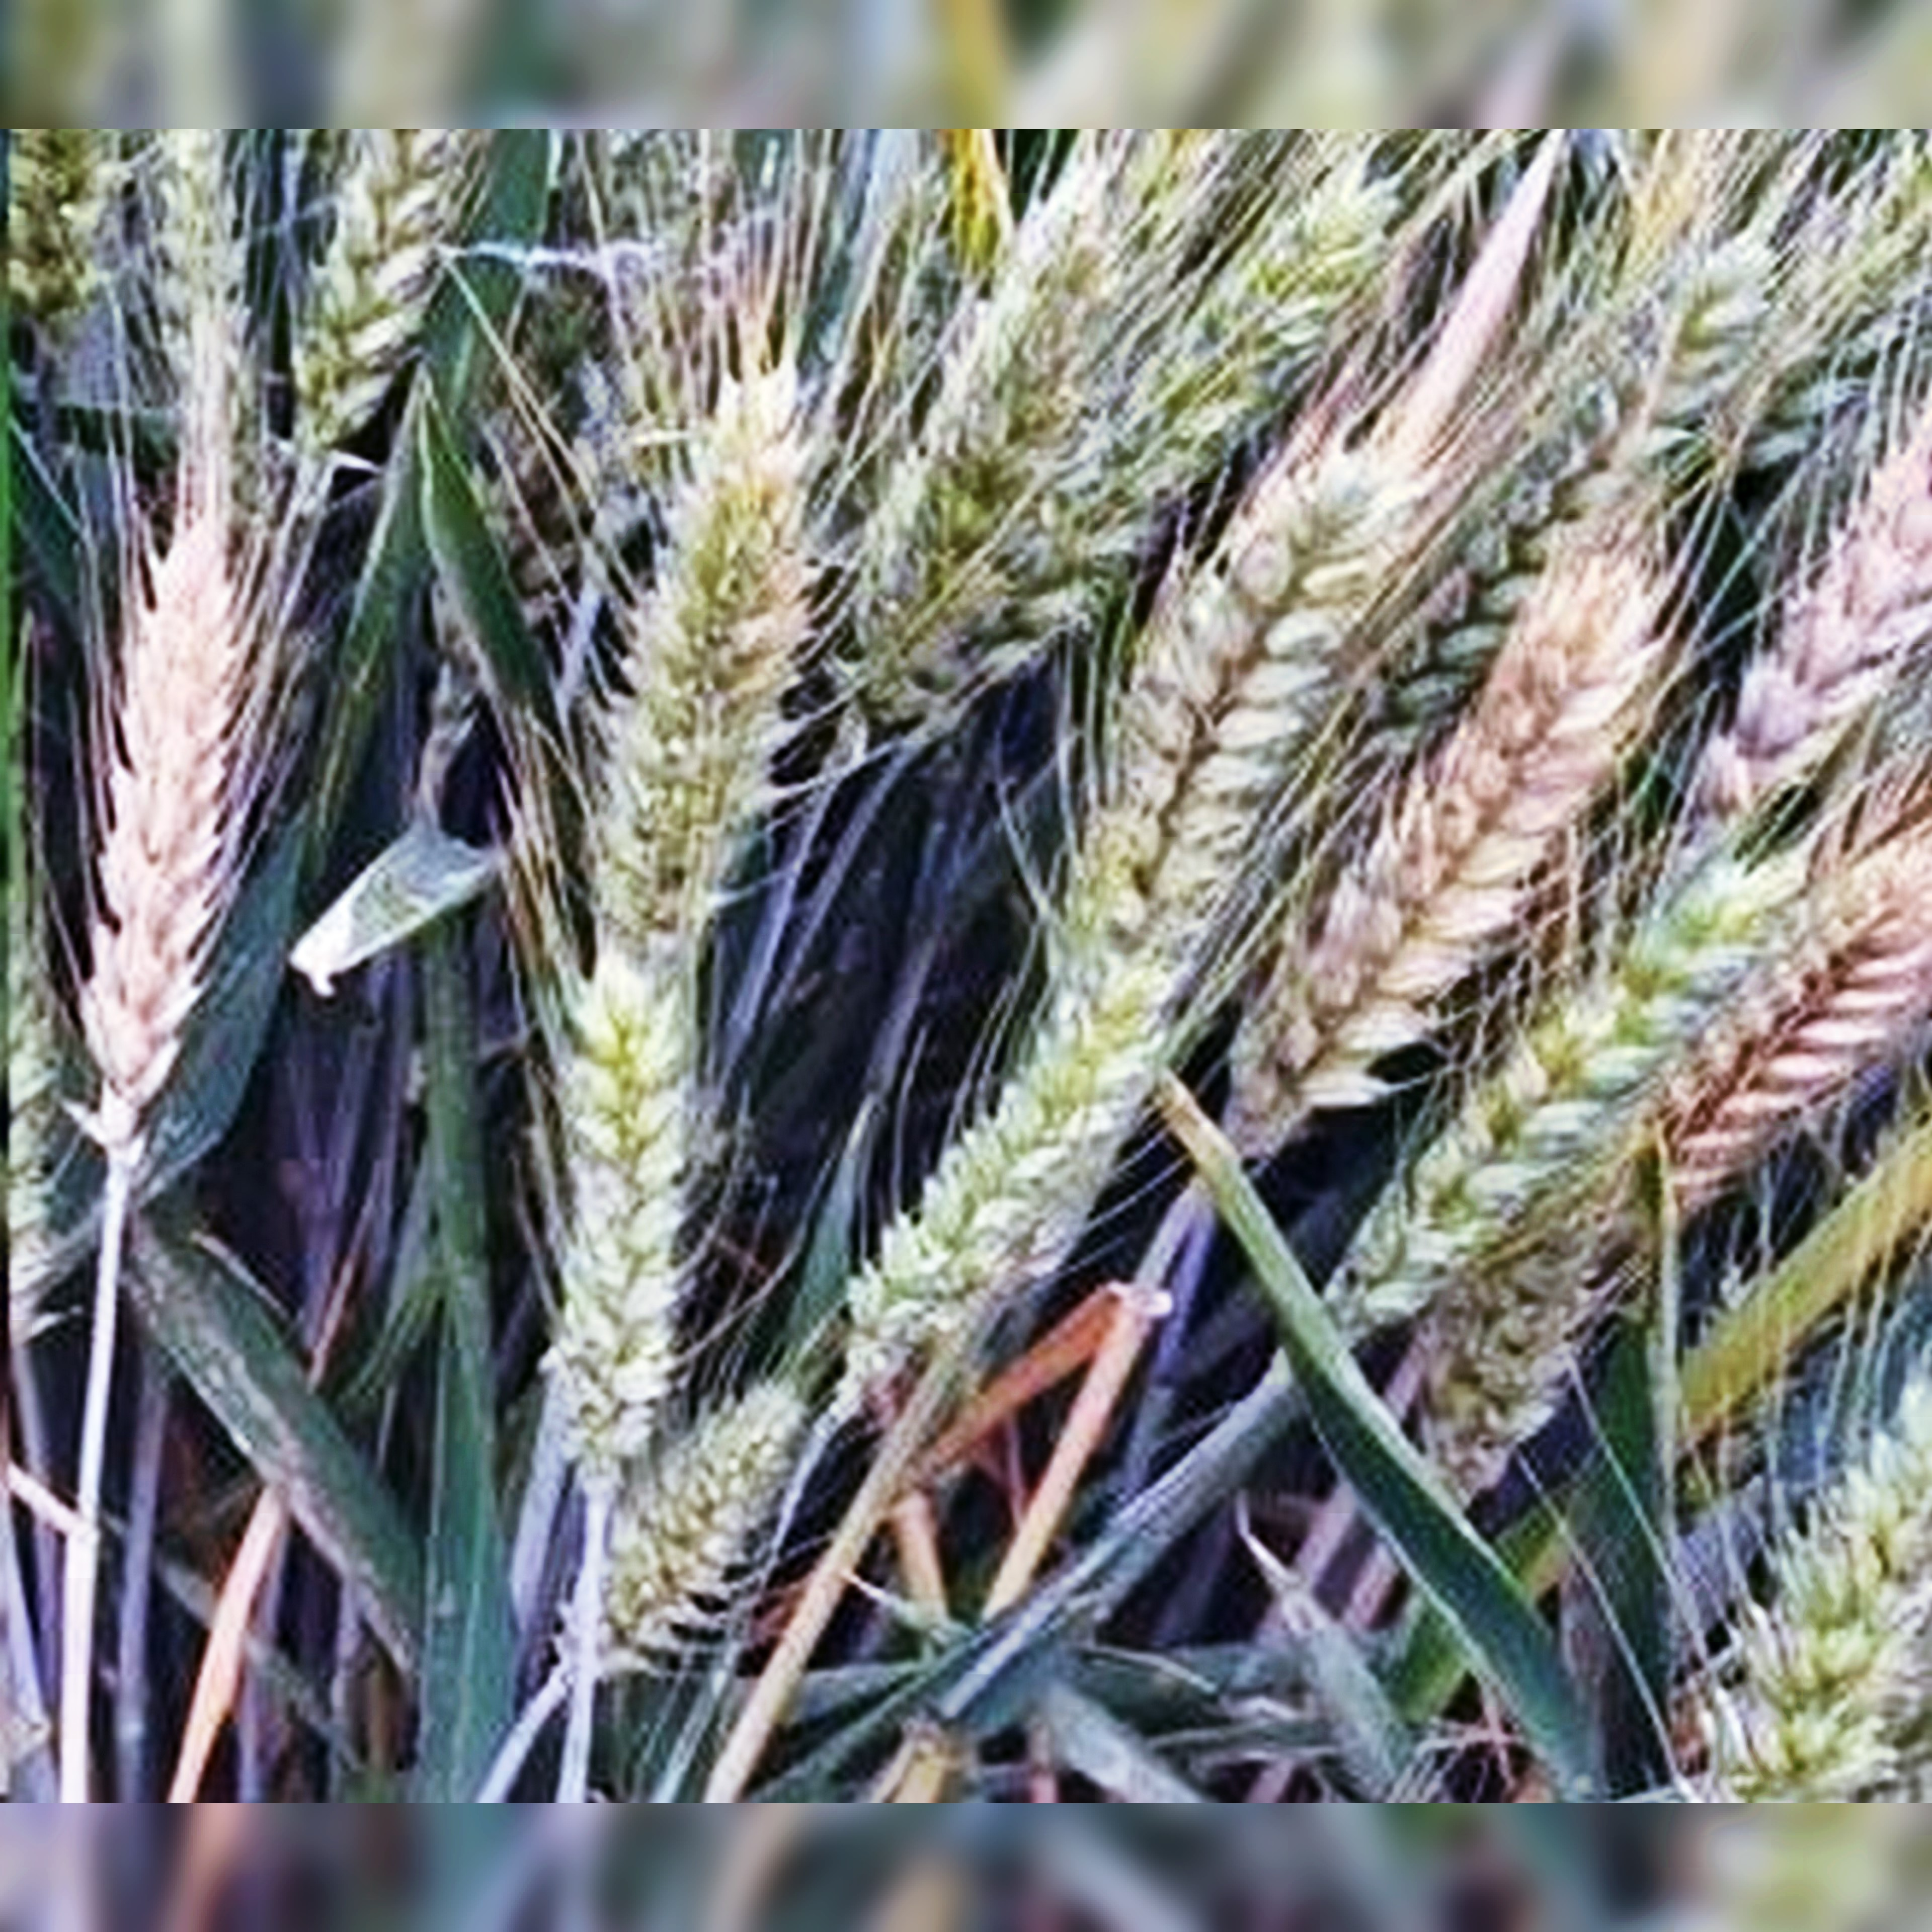Wheat scab: (725, 232, 1930, 1343), (81, 437, 357, 1139)
